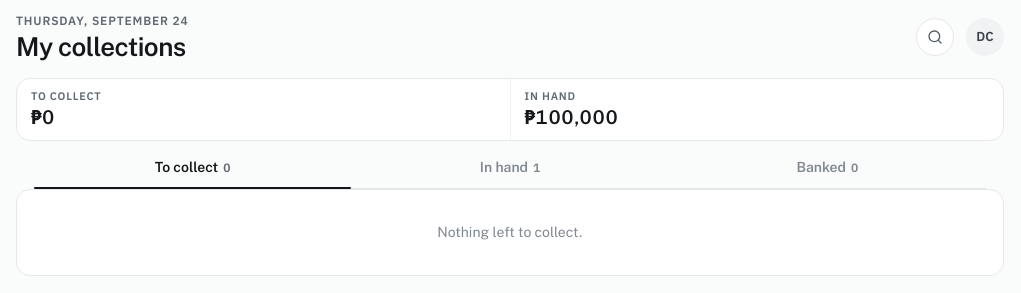
Test: the collector’s round › says when a post-dated check becomes bankable
Click the tab "In hand1" at (510, 172), box [351,157,669,188]
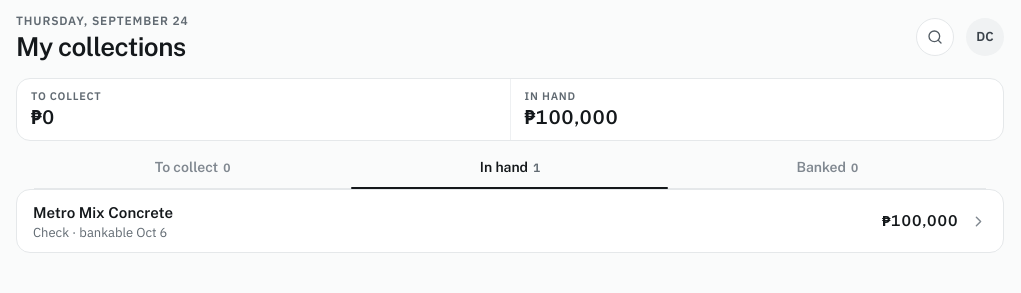
expect the text "Check · bankable Oct 6" is shown: met, box [33,224,167,241]
